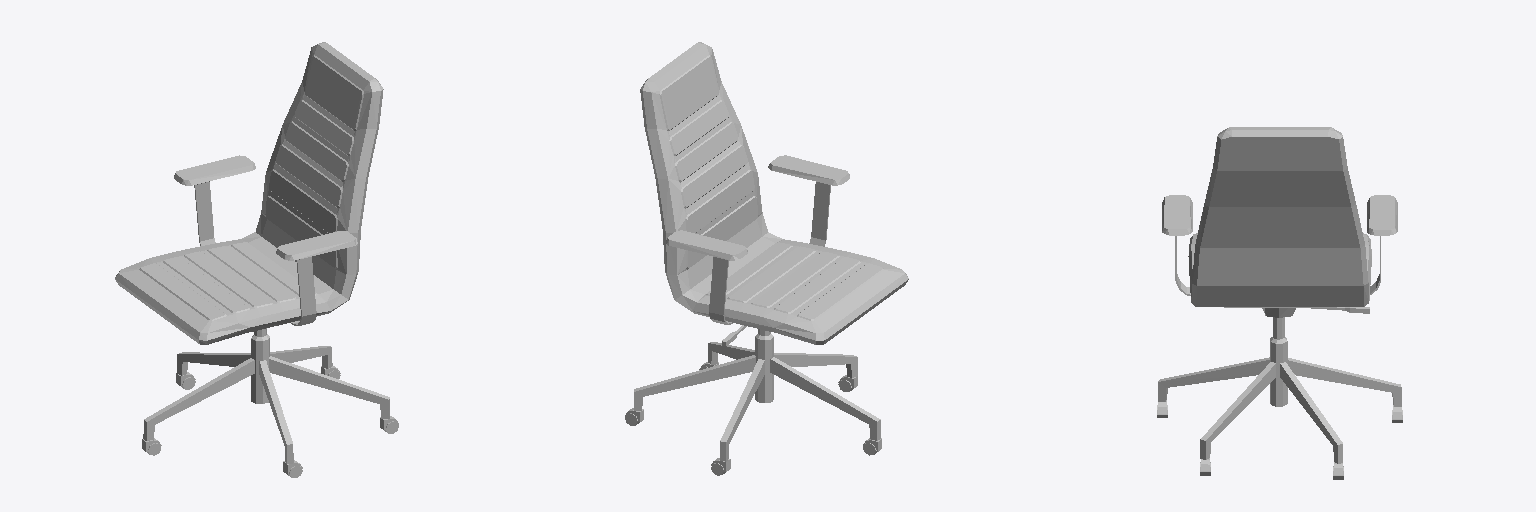
The model's file is ChairFinal.obj.
3 renders of one model, left to right at view 1: azimuth 30°, elevation 25°; view 2: azimuth 150°, elevation 25°; view 3: azimuth 270°, elevation 25°, orthographic.
Visible parts, largest first — view 1: ChairFinal.obj; view 2: ChairFinal.obj; view 3: ChairFinal.obj.
Boxes of the visible parts, x1,y1,x2,y2 form: ChairFinal.obj: [115, 42, 398, 477]; ChairFinal.obj: [625, 42, 908, 475]; ChairFinal.obj: [1157, 127, 1402, 479].
Size of the model in its own units: 0.7814 by 1.15 by 0.742.